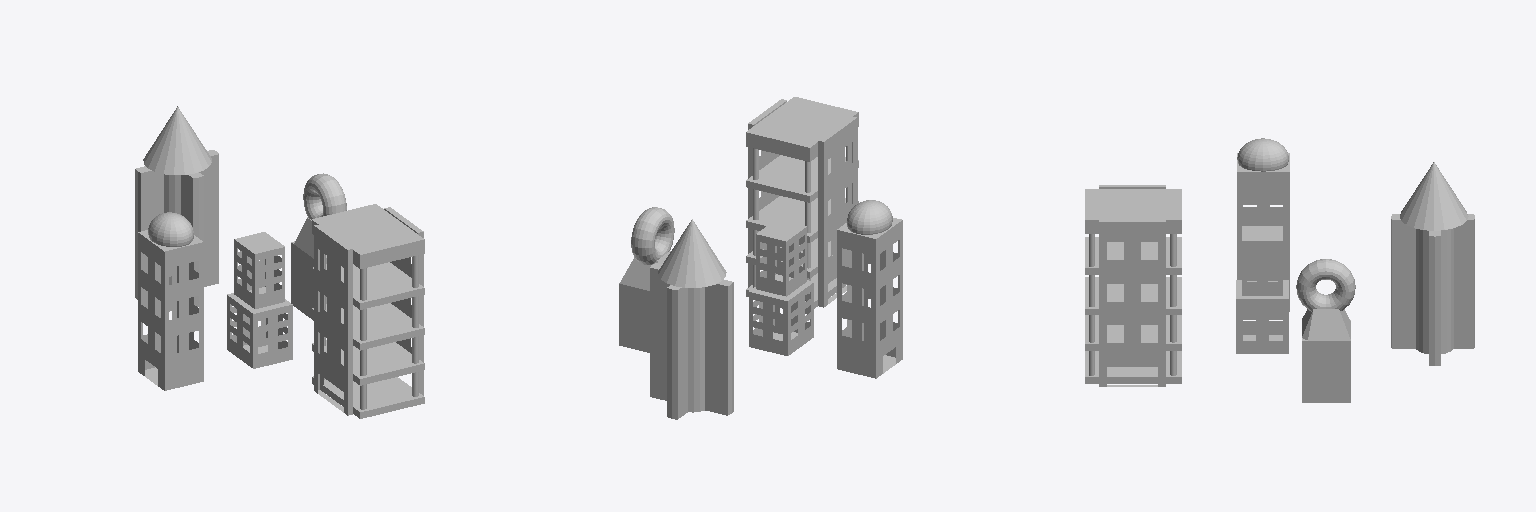
Rendered from City.obj.
3 views of the same model, side by side, from view 1: azimuth 30°, elevation 25°; view 2: azimuth 150°, elevation 25°; view 3: azimuth 270°, elevation 25° (orthographic).
Visible parts, largest first — view 1: pCube1 egg_building, skeleton_building pCube10, rocket_building pCylinder1, skeleton_building pCube9, cubic_stack_building pCube2, pCube3 cubic_stack_building, pCone1 rocket_building, pCube4 skeleton_building, skeleton_building pCube8, skeleton_building pCube7, skeleton_building pCube5, pCube12 donut_shop (+5 smaller); view 2: rocket_building pCylinder1, pCube1 egg_building, skeleton_building pCube10, skeleton_building pCube9, cubic_stack_building pCube2, pCube3 cubic_stack_building, pCone1 rocket_building, pCube12 donut_shop, skeleton_building pCube8, donut_shop pTorus1, skeleton_building pCube7, egg_building pSphere1 (+1 smaller); view 3: rocket_building pCylinder1, skeleton_building pCube11, pCube12 donut_shop, pCube1 egg_building, skeleton_building pCube9, cubic_stack_building pCube2, pCone1 rocket_building, pCube3 cubic_stack_building, donut_shop pTorus1, pCube4 skeleton_building, egg_building pSphere1, skeleton_building pCube8 (+4 smaller).
Boxes of the visible parts, <box> form: pCube1 egg_building: <box>138,230,203,390</box>; skeleton_building pCube10: <box>314,224,352,415</box>; rocket_building pCylinder1: <box>135,150,218,306</box>; skeleton_building pCube9: <box>312,204,424,268</box>; cubic_stack_building pCube2: <box>227,293,292,368</box>; pCube3 cubic_stack_building: <box>234,232,284,308</box>; pCone1 rocket_building: <box>143,106,211,174</box>; pCube4 skeleton_building: <box>312,376,424,418</box>; skeleton_building pCube8: <box>312,262,424,309</box>; skeleton_building pCube7: <box>312,303,424,350</box>; skeleton_building pCube5: <box>312,340,424,385</box>; pCube12 donut_shop: <box>291,217,326,320</box>; rocket_building pCylinder1: <box>650,263,733,419</box>; pCube1 egg_building: <box>837,218,902,378</box>; skeleton_building pCube10: <box>818,116,857,307</box>; skeleton_building pCube9: <box>746,97,858,161</box>; cubic_stack_building pCube2: <box>749,280,813,355</box>; pCube3 cubic_stack_building: <box>756,219,806,296</box>; pCone1 rocket_building: <box>658,219,726,287</box>; pCube12 donut_shop: <box>619,251,670,352</box>; skeleton_building pCube8: <box>746,155,858,202</box>; donut_shop pTorus1: <box>631,207,674,264</box>; skeleton_building pCube7: <box>746,196,858,242</box>; egg_building pSphere1: <box>847,200,892,234</box>; rocket_building pCylinder1: <box>1391,214,1474,365</box>; skeleton_building pCube11: <box>1099,219,1165,386</box>; pCube12 donut_shop: <box>1302,309,1350,402</box>; pCube1 egg_building: <box>1237,153,1289,311</box>; skeleton_building pCube9: <box>1085,189,1181,233</box>; cubic_stack_building pCube2: <box>1236,280,1288,353</box>; pCone1 rocket_building: <box>1400,162,1468,230</box>; pCube3 cubic_stack_building: <box>1242,226,1282,295</box>; donut_shop pTorus1: <box>1296,259,1355,311</box>; pCube4 skeleton_building: <box>1085,351,1181,383</box>; egg_building pSphere1: <box>1237,138,1288,171</box>; skeleton_building pCube8: <box>1085,237,1181,274</box>.
Size of the model in its own units: 13.14 by 10.4 by 19.62.